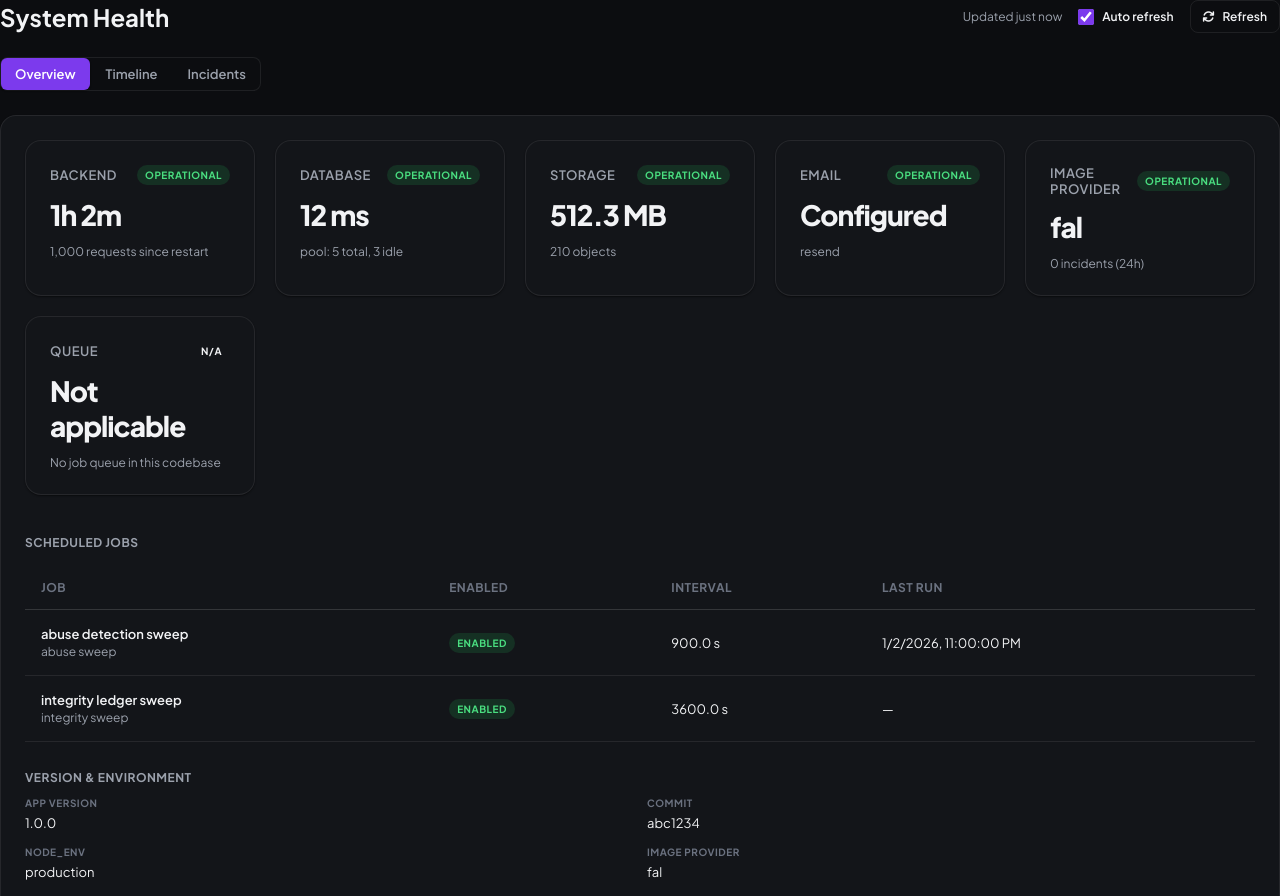
Test: SystemHealthPage - Incidents tab › loads incidents scoped to image_provider and shows severity/message
The width and height of the screenshot is (1280, 896).
Expected: the text "Backend" is shown, [50, 167, 117, 183]
Click the button "Incidents": (217, 74) [174, 58, 260, 90]
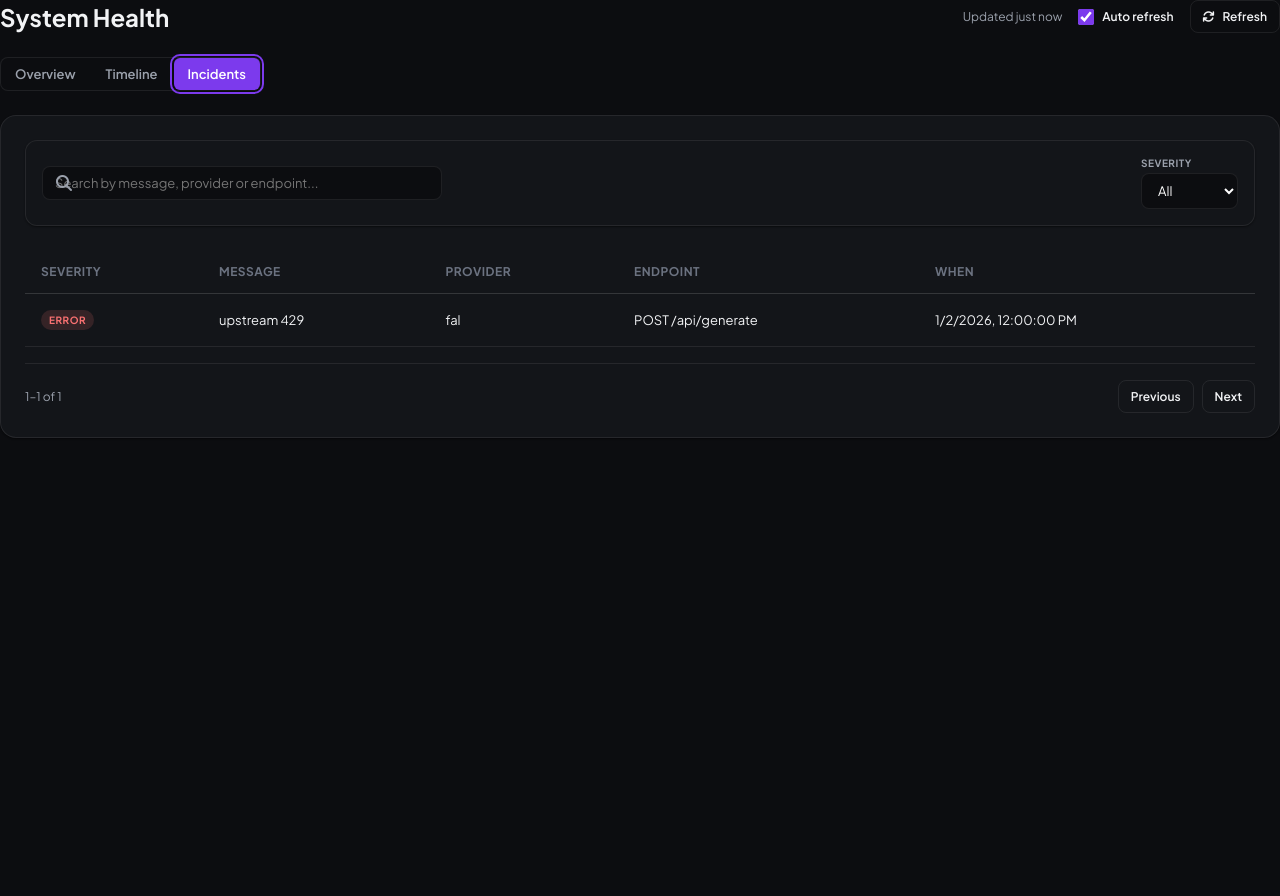
Expected: the text "upstream 429" is shown, [203, 294, 429, 346]
